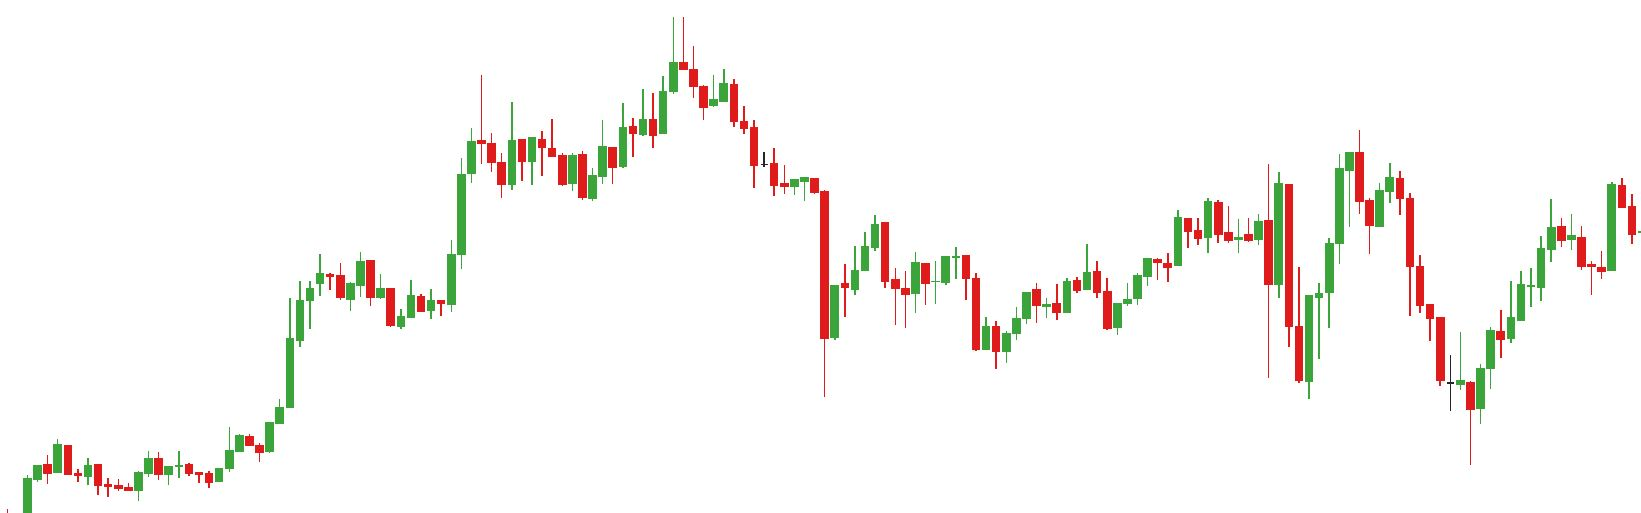buy: (343, 266, 417, 334)
